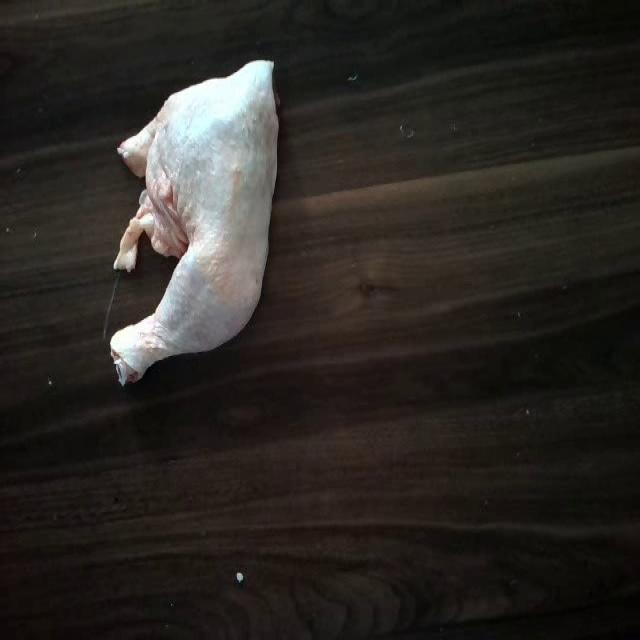quater: (106, 56, 286, 385)
